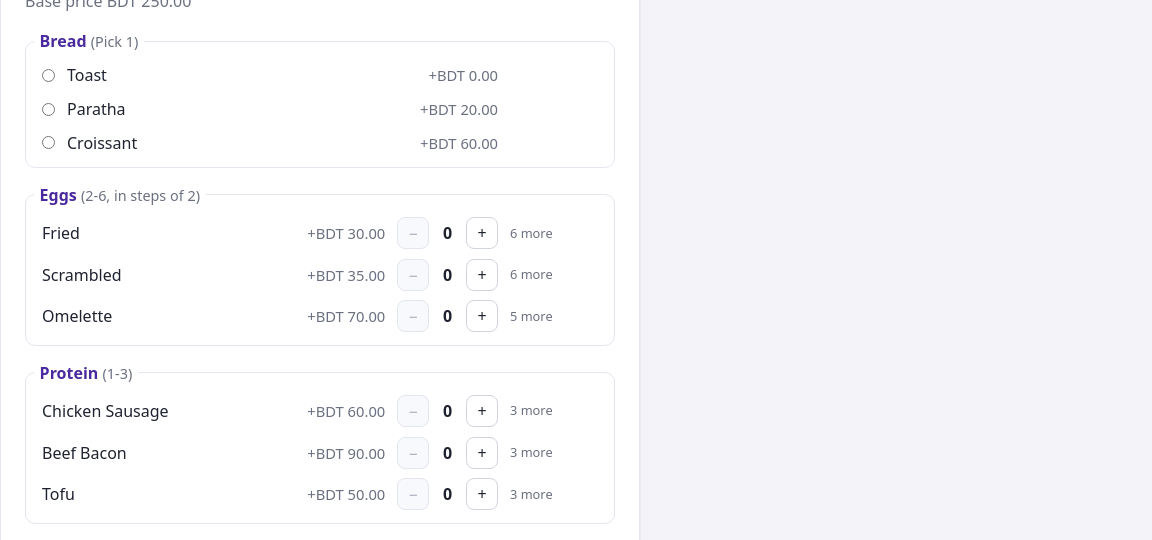
Test: Builder › keeps Add to Cart disabled while any violation exists
Click the radio button labelled "Toast +BDT 0.00" at (48, 75), box left=42, top=69, right=55, bottom=82
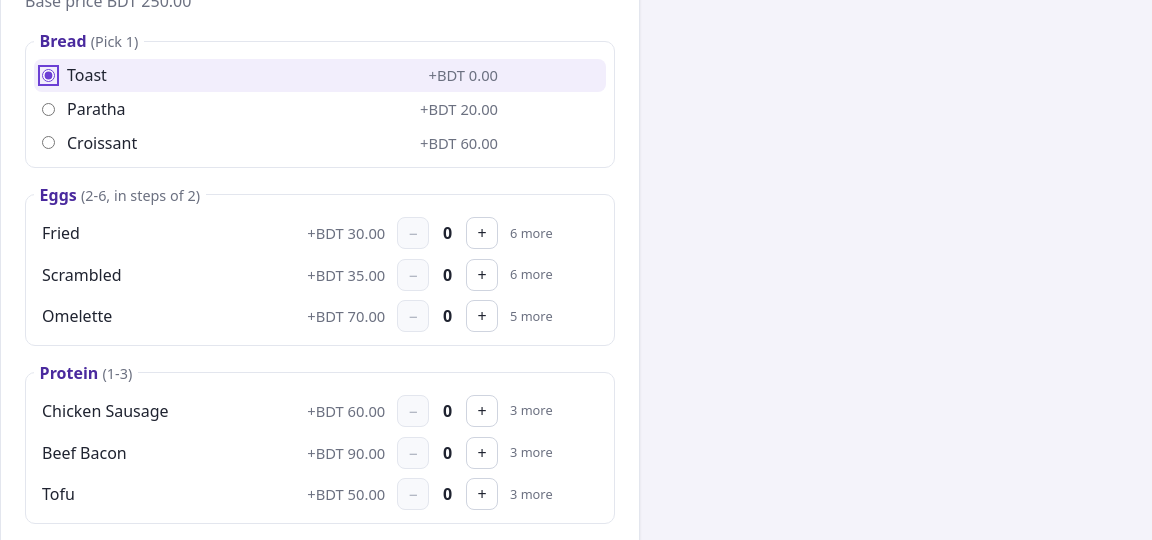
Click the button "+" in the row of "Scrambled" at (482, 275), box left=466, top=259, right=498, bottom=291
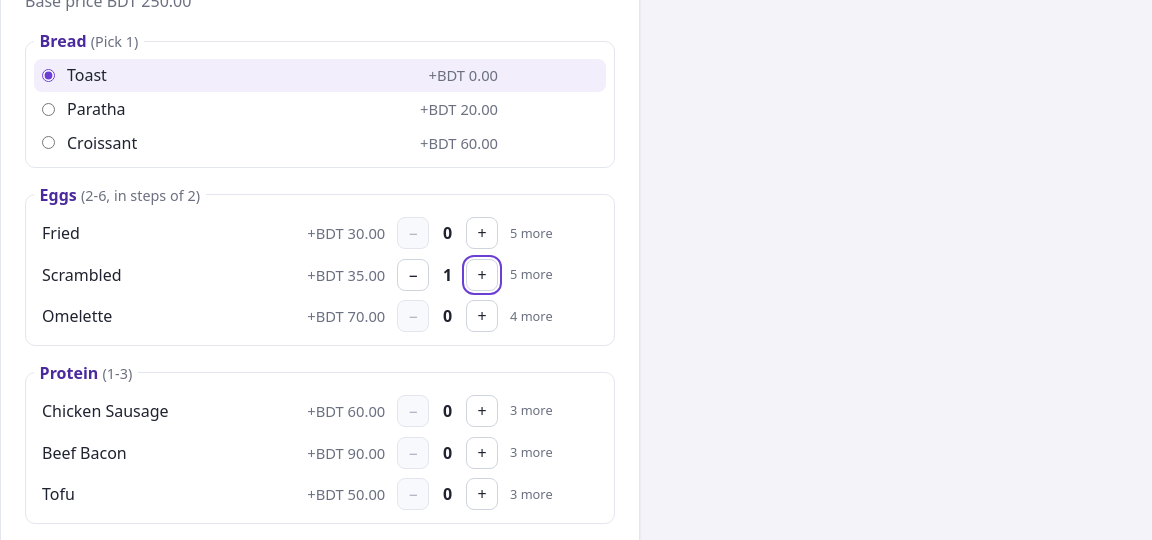
Click the button "+" in the row of "Scrambled" at (482, 275), box left=466, top=259, right=498, bottom=291
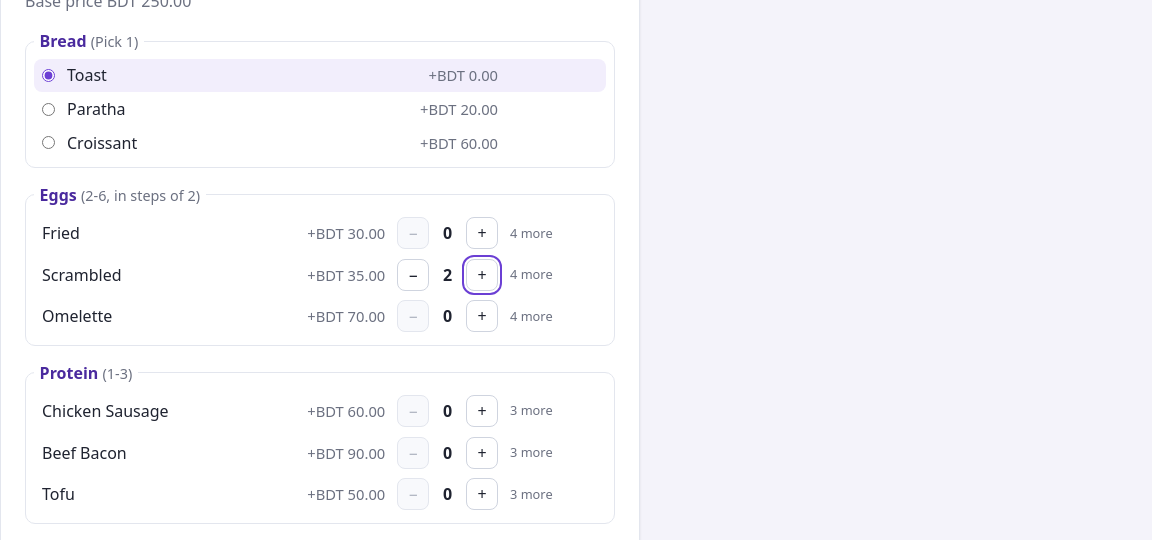
Click the button "+" in the row of "Chicken Sausage" at (482, 411), box left=466, top=395, right=498, bottom=427
(page scrolled)
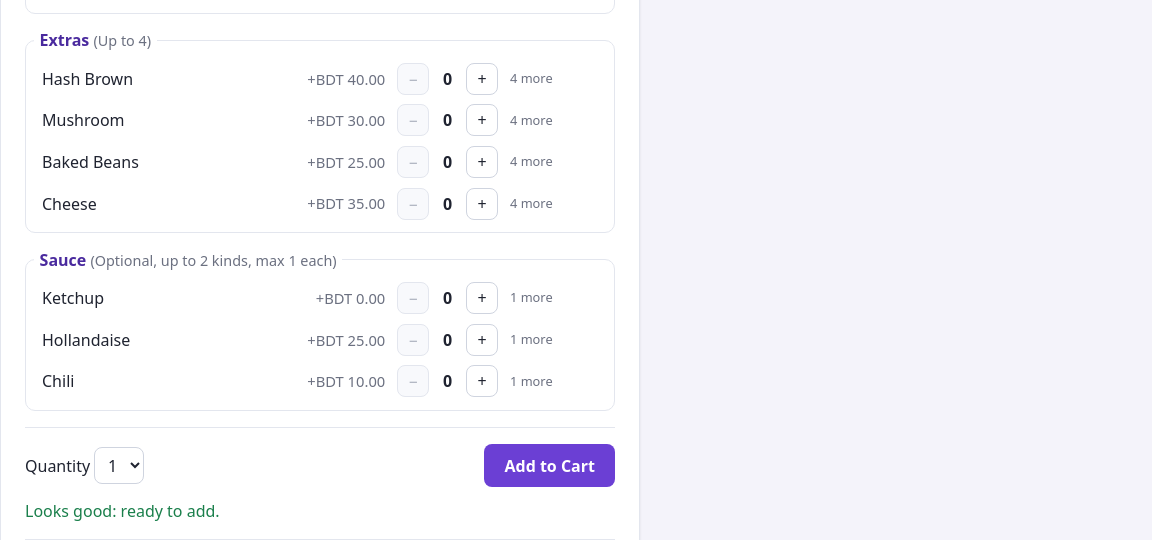
Click the button "+" in the row of "Ketchup" at (482, 298), box left=466, top=282, right=498, bottom=314
(page scrolled)
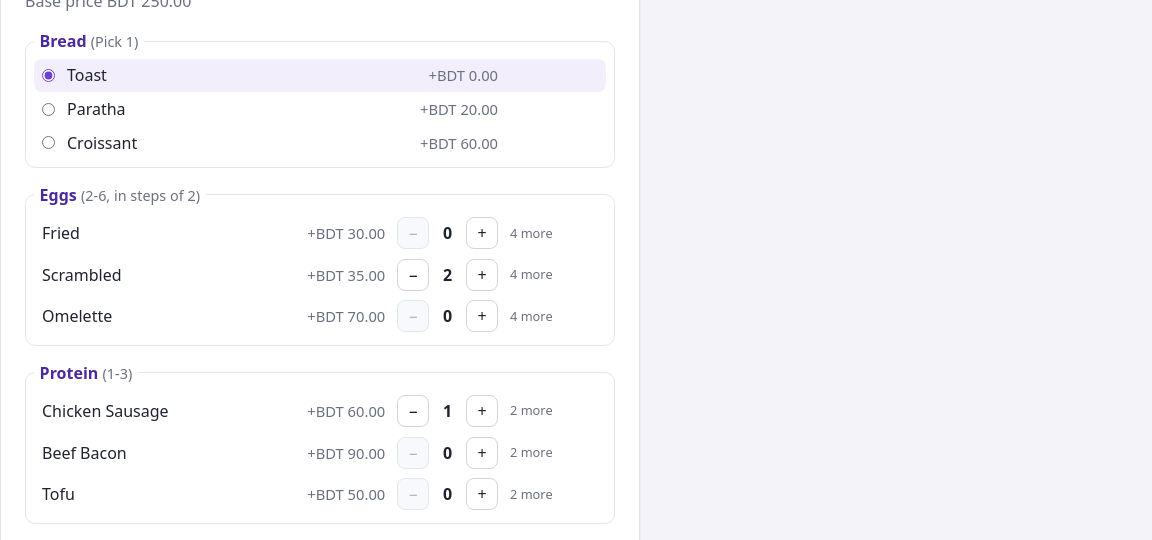
Click the button "+" in the row of "Scrambled" at (482, 275), box left=466, top=259, right=498, bottom=291
(page scrolled)
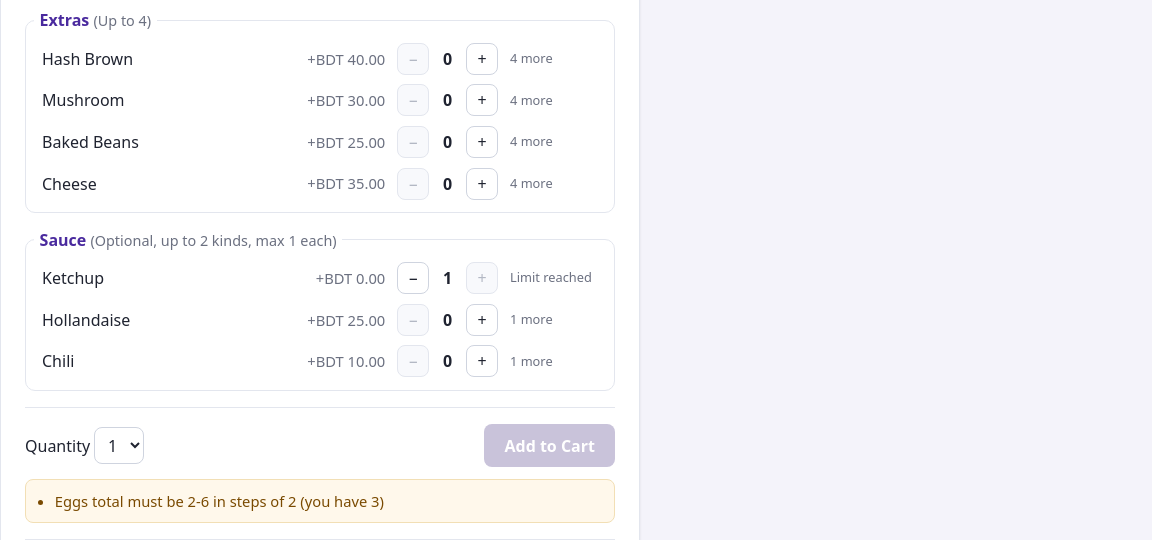
Result: the button "Add to Cart" is disabled at left=484, top=424, right=615, bottom=467
Result: the list item "Eggs total must be 2-6 in steps of 2 (you have 3)" is shown at left=55, top=491, right=384, bottom=511
